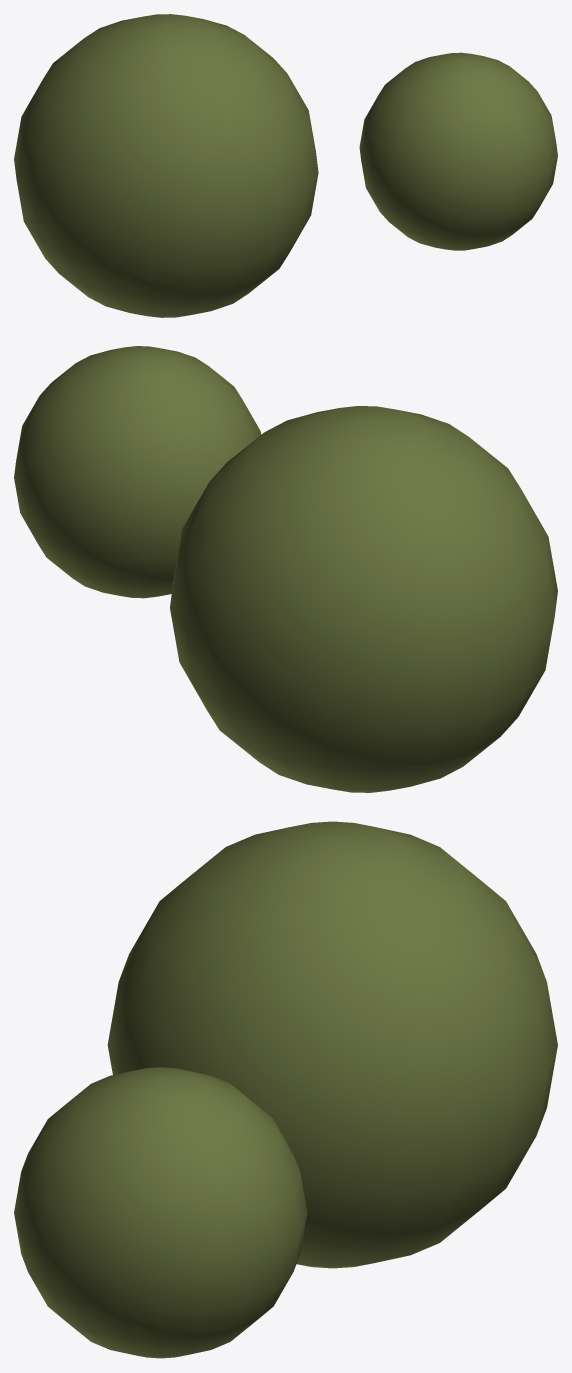
File: Trees_Setof2.fbx
3 renders of one model, top to bottom at view 1: azimuth 30°, elevation 25°; view 2: azimuth 150°, elevation 25°; view 3: azimuth 270°, elevation 25°, orthographic. The views are drawn at different scales.
Parts seen in each view (by area): view 1: pSphere6; view 2: pSphere6; view 3: pSphere6.
Boxes of the visible parts, x1,y1,x2,y2 form: pSphere6: [14, 14, 557, 317]; pSphere6: [14, 346, 557, 792]; pSphere6: [14, 821, 557, 1358].
Size of the model in its own units: 1.78 by 1.04 by 1.26.
